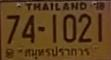0: (62, 13, 76, 42)
1: (97, 12, 102, 42), (97, 13, 102, 42), (52, 14, 56, 42)
2: (78, 13, 91, 42)
4: (21, 14, 34, 42)
7: (6, 14, 19, 43)
SPK: (22, 46, 91, 59)
